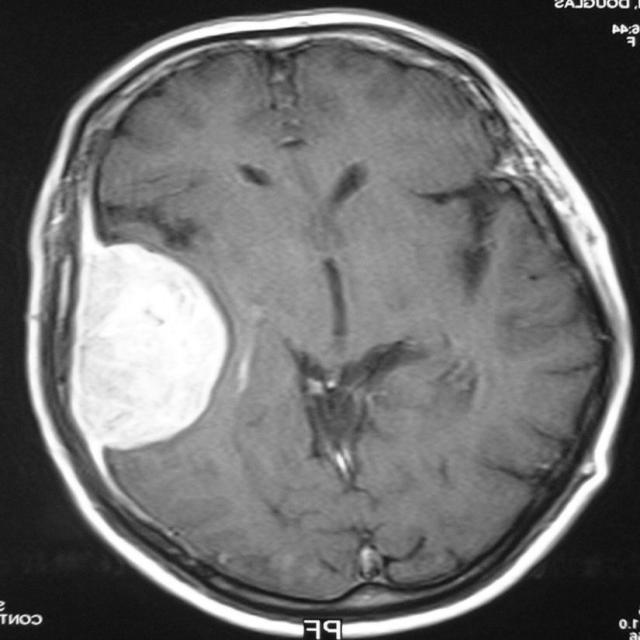Tumor: (72, 192, 230, 494)
